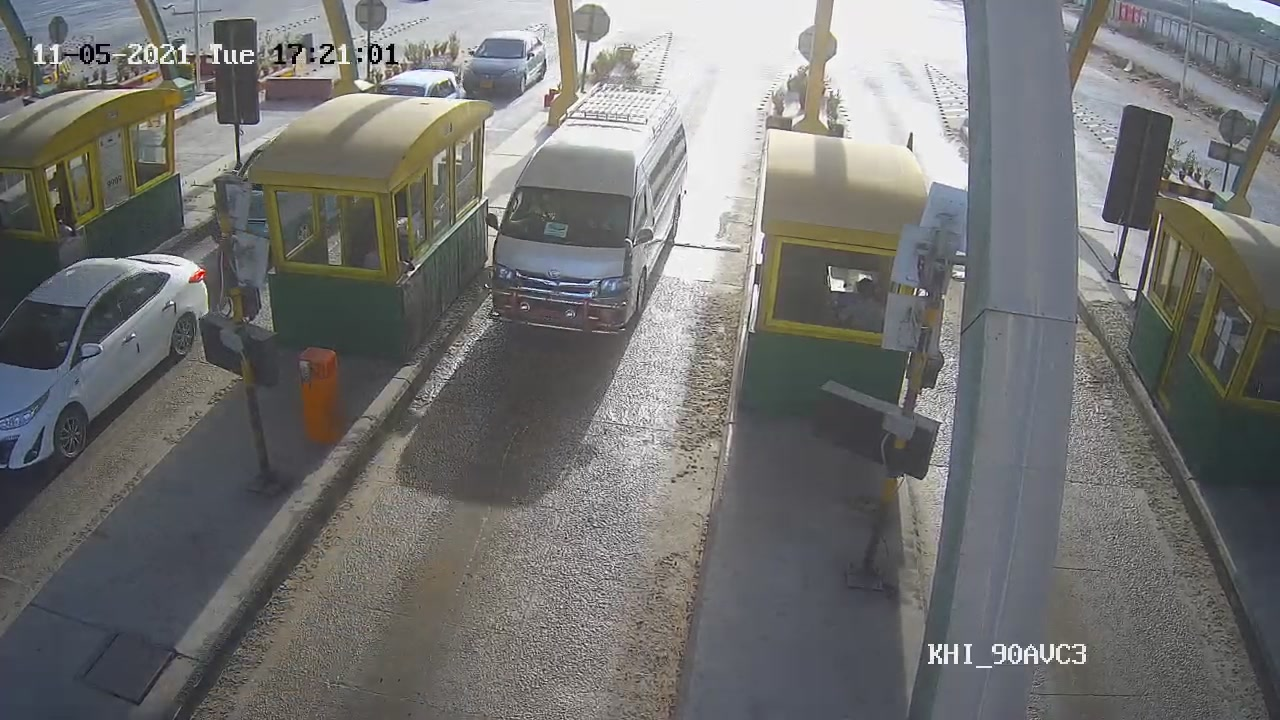F2: (477, 79, 691, 328)
